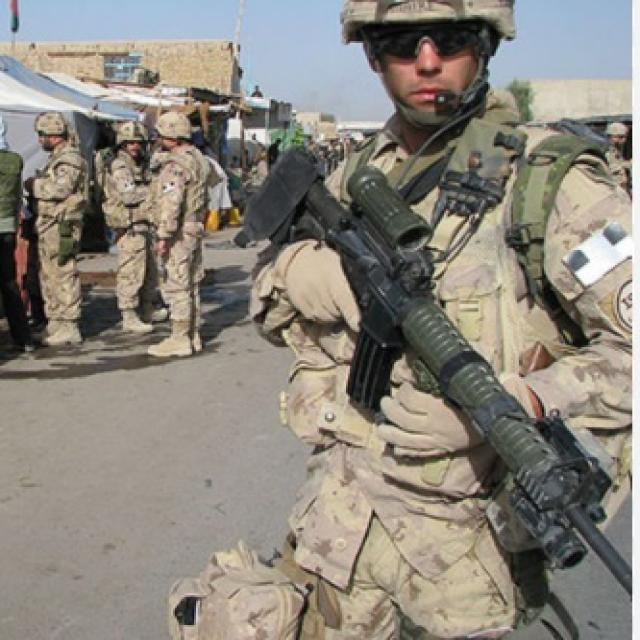m16: (343, 276, 631, 604)
